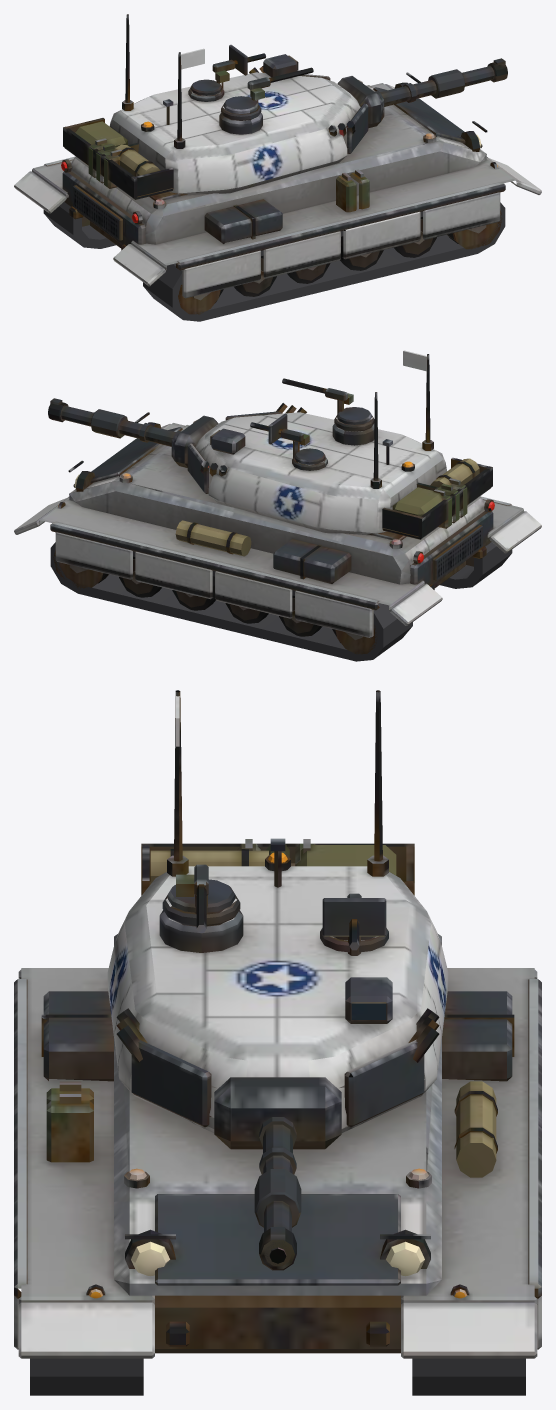
File: 2tnk.allies.glb
The picture shows the model from 3 angles, top to bottom: view 1: azimuth 30°, elevation 25°; view 2: azimuth 150°, elevation 25°; view 3: azimuth 270°, elevation 25°; orthographic projection. The views are drawn at different scales.
Parts seen in each view (by area): view 1: root_mesh, turret_mesh, b0_mesh; view 2: root_mesh, turret_mesh, b0_mesh; view 3: root_mesh, turret_mesh, b0_mesh.
Boxes of the visible parts, bbox=[...] form: root_mesh: bbox=[14, 72, 541, 321]; turret_mesh: bbox=[63, 14, 384, 199]; b0_mesh: bbox=[374, 58, 507, 106]; root_mesh: bbox=[14, 412, 541, 661]; turret_mesh: bbox=[171, 350, 492, 539]; b0_mesh: bbox=[48, 398, 181, 446]; root_mesh: bbox=[14, 839, 541, 1395]; turret_mesh: bbox=[107, 690, 448, 1149]; b0_mesh: bbox=[254, 1117, 301, 1270].
Bounding box in the file's own units: 1.04 × 0.552 × 0.58.
2 materials, 1 textured.
